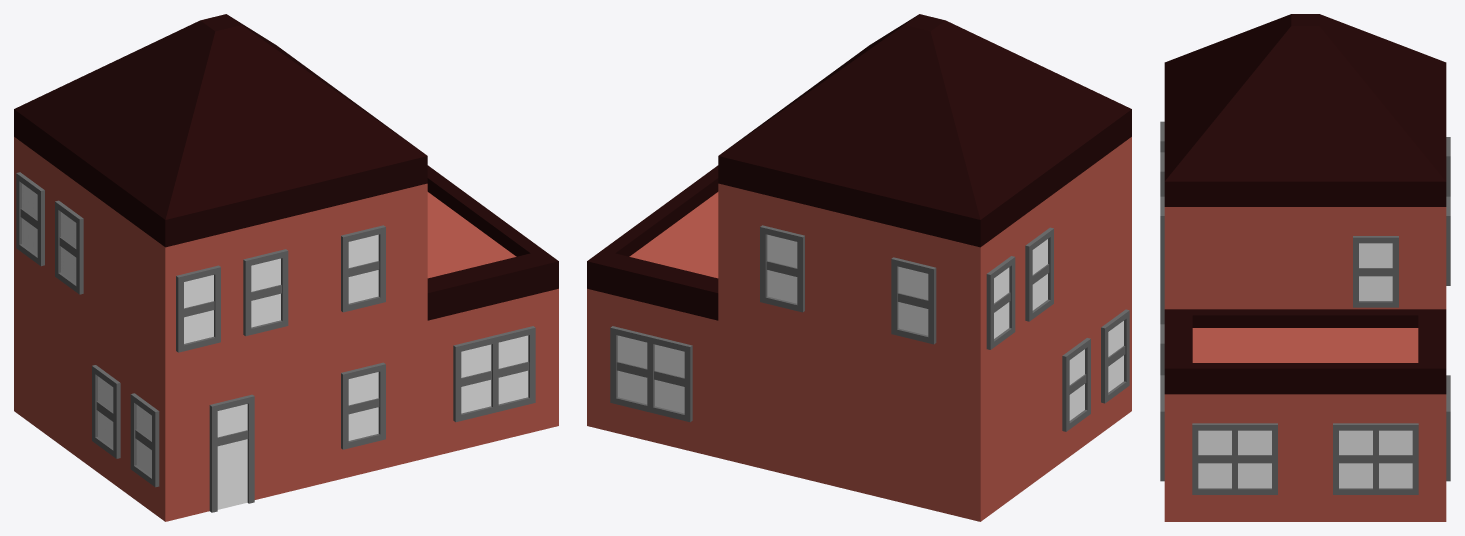
Rendered from house2.fbx.
3 renders of one model, left to right at view 1: azimuth 30°, elevation 25°; view 2: azimuth 150°, elevation 25°; view 3: azimuth 270°, elevation 25°, orthographic. The views are drawn at different scales.
Visible parts, largest first — view 1: mergedBlocks; view 2: mergedBlocks; view 3: mergedBlocks.
Part boxes in pixels (bbox=[...]): mergedBlocks: bbox=[14, 14, 558, 521]; mergedBlocks: bbox=[587, 14, 1131, 521]; mergedBlocks: bbox=[1160, 14, 1450, 521].
Size of the model in its own units: 15.3 by 15 by 10.3.
